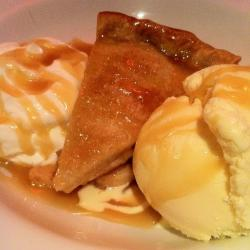apple_pie: (48, 10, 240, 201)
icecream: (132, 62, 250, 241), (1, 37, 90, 175)
